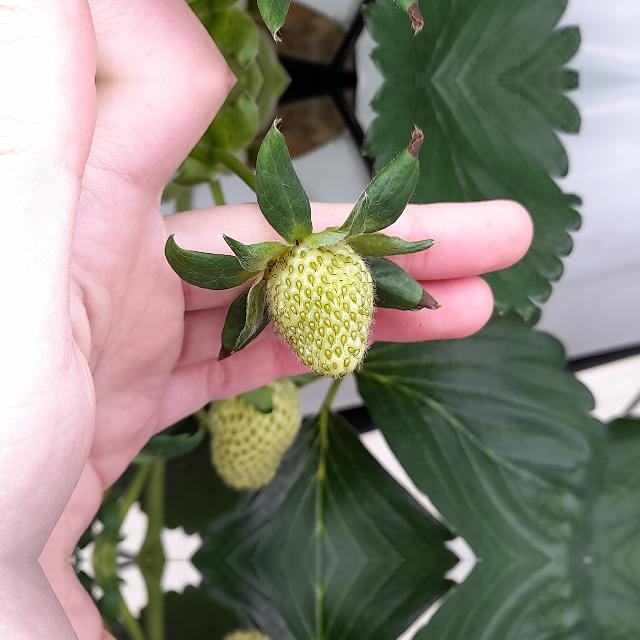Health_25: (266, 240, 374, 378), (206, 368, 302, 492)
